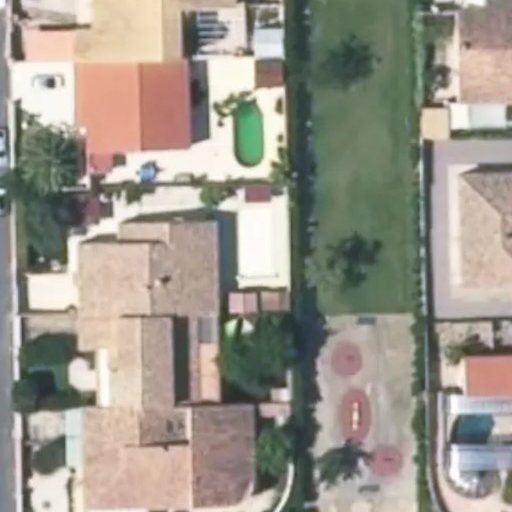pool: (239, 208, 272, 275)
